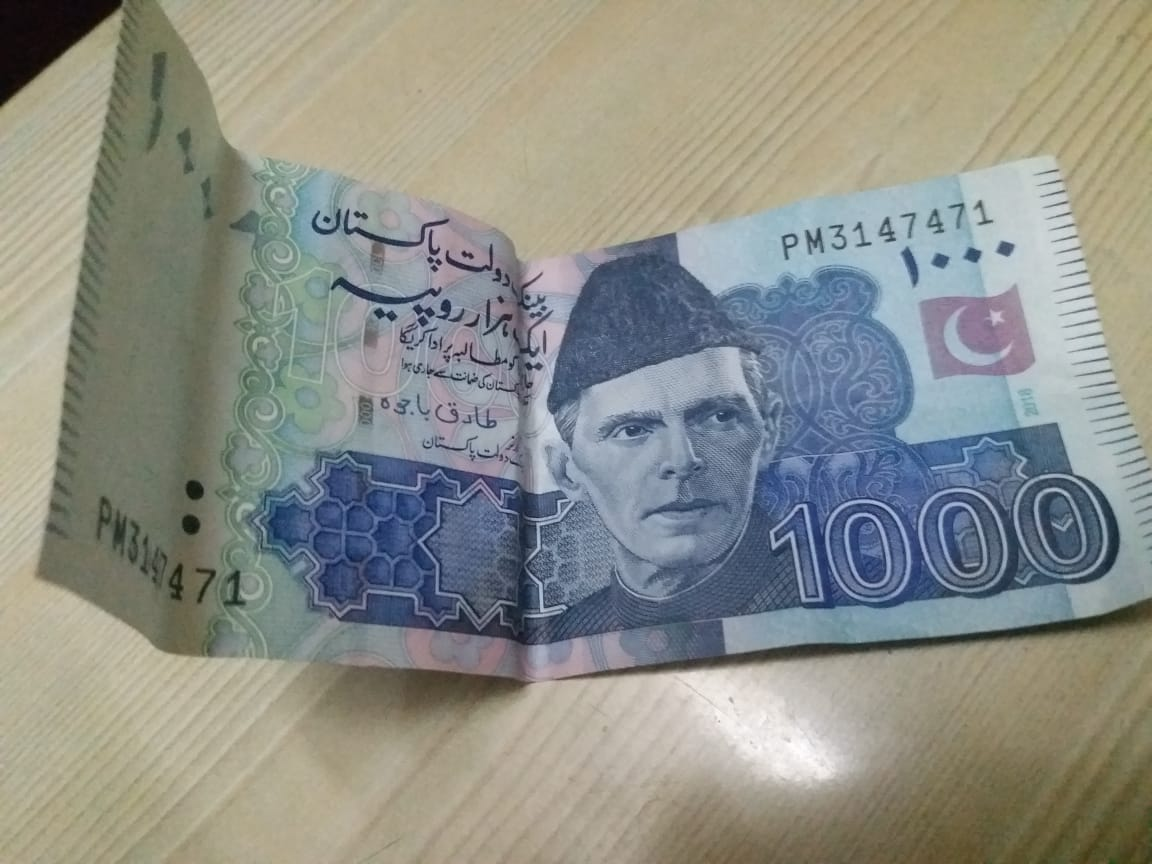1000 rupee: (34, 6, 1151, 722)
